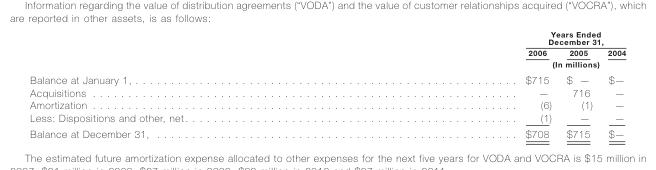table: (29, 28, 625, 139)
table column: (29, 28, 356, 139), (356, 28, 558, 139), (558, 28, 599, 139), (599, 28, 625, 139)
table column header: (29, 28, 625, 70)
table row: (29, 28, 625, 46), (29, 70, 625, 85), (29, 111, 625, 125), (29, 125, 625, 139), (29, 85, 625, 98), (29, 98, 625, 111), (29, 46, 625, 58), (29, 58, 625, 70)
table spanning cell: (356, 28, 625, 46), (356, 58, 625, 70)
